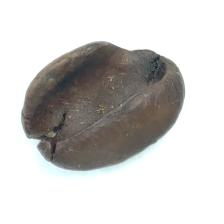NG: (25, 61, 122, 144), (79, 40, 178, 106)
